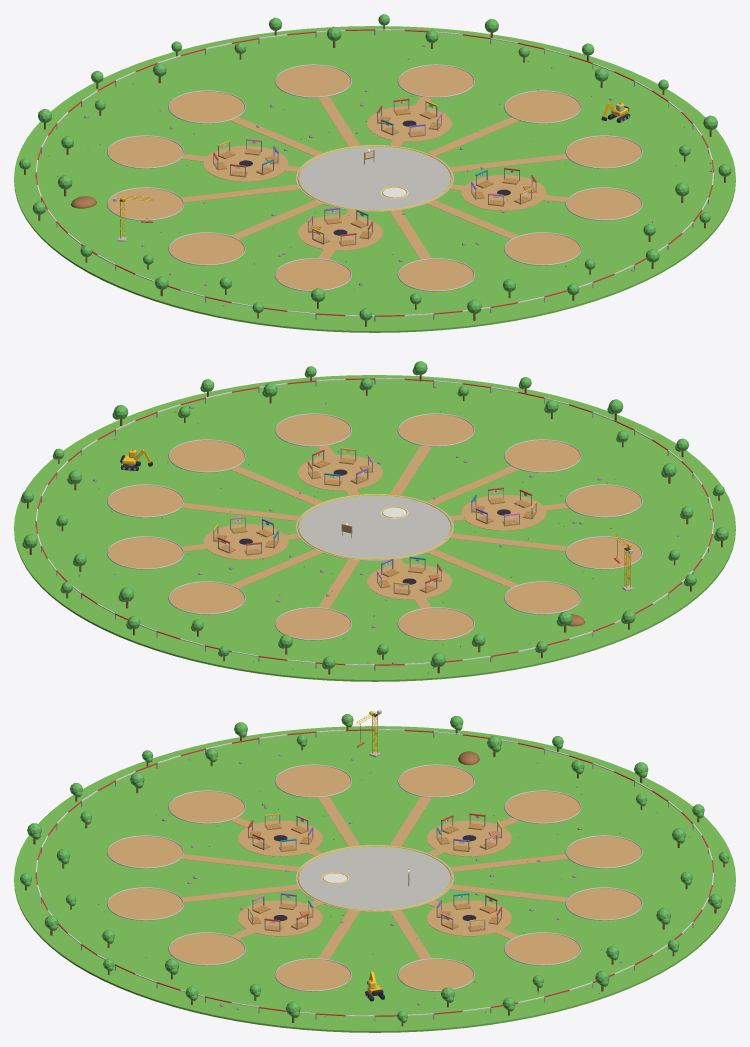
Rendered from site.0a231bb5.glb.
The picture shows the model from 3 angles, top to bottom: view 1: azimuth 30°, elevation 25°; view 2: azimuth 150°, elevation 25°; view 3: azimuth 270°, elevation 25°; orthographic projection.
Parts seen in each view (by area): view 1: Site__T_grass, Site__T_dirt, Site__T_concrete, Site__T_leaf, Site__T_wood, Site__T_white, Site__T_red, Site__T_yellow, Site__T_steel, Site__T_trunk; view 2: Site__T_grass, Site__T_dirt, Site__T_concrete, Site__T_leaf, Site__T_wood, Site__T_white, Site__T_red, Site__T_yellow, Site__T_steel, Site__T_trunk; view 3: Site__T_grass, Site__T_dirt, Site__T_concrete, Site__T_leaf, Site__T_wood, Site__T_white, Site__T_red, Site__T_steel, Site__T_yellow.
Part boxes in pixels (x1,y1,x2,y2): Site__T_grass: (14, 26, 735, 332); Site__T_dirt: (108, 65, 641, 291); Site__T_concrete: (107, 64, 642, 291); Site__T_leaf: (19, 14, 731, 320); Site__T_wood: (213, 109, 535, 246); Site__T_white: (36, 29, 714, 316); Site__T_red: (35, 29, 713, 316); Site__T_yellow: (117, 102, 628, 238); Site__T_steel: (35, 29, 714, 321); Site__T_trunk: (24, 25, 725, 326); Site__T_grass: (14, 375, 735, 681); Site__T_dirt: (108, 414, 641, 640); Site__T_concrete: (107, 413, 642, 640); Site__T_leaf: (20, 361, 728, 669); Site__T_wood: (214, 458, 536, 595); Site__T_white: (36, 378, 714, 665); Site__T_red: (35, 378, 713, 665); Site__T_yellow: (122, 449, 631, 588); Site__T_steel: (35, 378, 714, 670); Site__T_trunk: (27, 374, 722, 674); Site__T_grass: (14, 726, 735, 1032); Site__T_dirt: (108, 765, 641, 991); Site__T_concrete: (107, 710, 642, 991); Site__T_leaf: (20, 714, 729, 1022); Site__T_wood: (248, 823, 501, 931); Site__T_white: (36, 729, 714, 1016); Site__T_red: (35, 729, 713, 1016); Site__T_steel: (35, 729, 714, 1021); Site__T_yellow: (297, 711, 452, 995).
Bounding box in the file's own units: 73 × 11.12 × 73.
